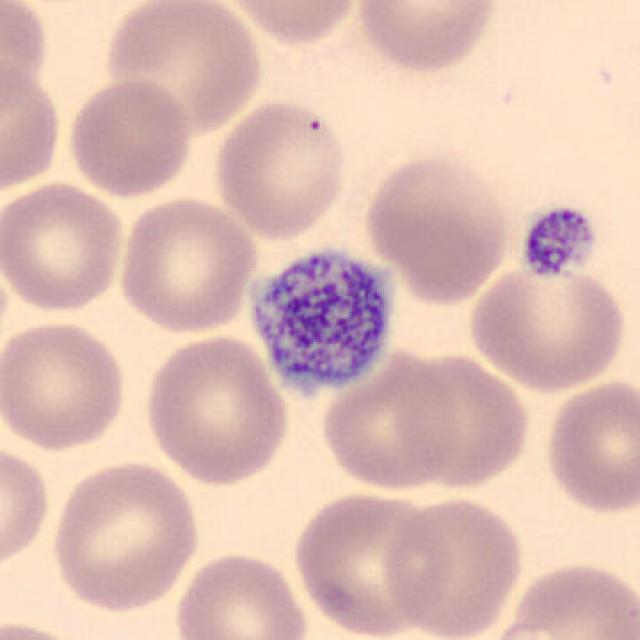Platelets: (240, 237, 400, 408), (514, 201, 601, 284)
RBC: (46, 456, 205, 614), (361, 146, 515, 305), (288, 487, 450, 638), (138, 332, 292, 488), (100, 0, 266, 136), (464, 261, 631, 395), (316, 346, 464, 494), (382, 492, 526, 640), (114, 192, 261, 335), (395, 347, 535, 494), (210, 97, 350, 240), (2, 315, 132, 455), (0, 178, 128, 316), (62, 74, 196, 199), (539, 374, 638, 518), (171, 548, 313, 640), (489, 559, 640, 640), (352, 0, 501, 76), (0, 58, 66, 198), (0, 439, 53, 576), (217, 0, 364, 46), (0, 0, 53, 114), (0, 615, 96, 640)
